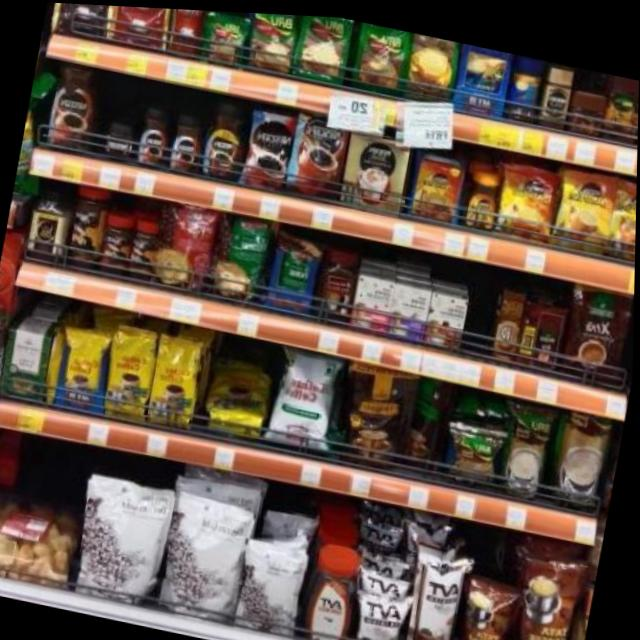Coffee: (287, 109, 350, 200), (554, 162, 615, 249), (46, 57, 102, 151), (500, 157, 558, 234), (243, 108, 296, 188), (199, 100, 247, 178), (607, 176, 637, 255), (166, 111, 204, 173), (463, 164, 502, 224), (135, 104, 172, 165), (539, 59, 574, 122), (101, 118, 137, 157)
